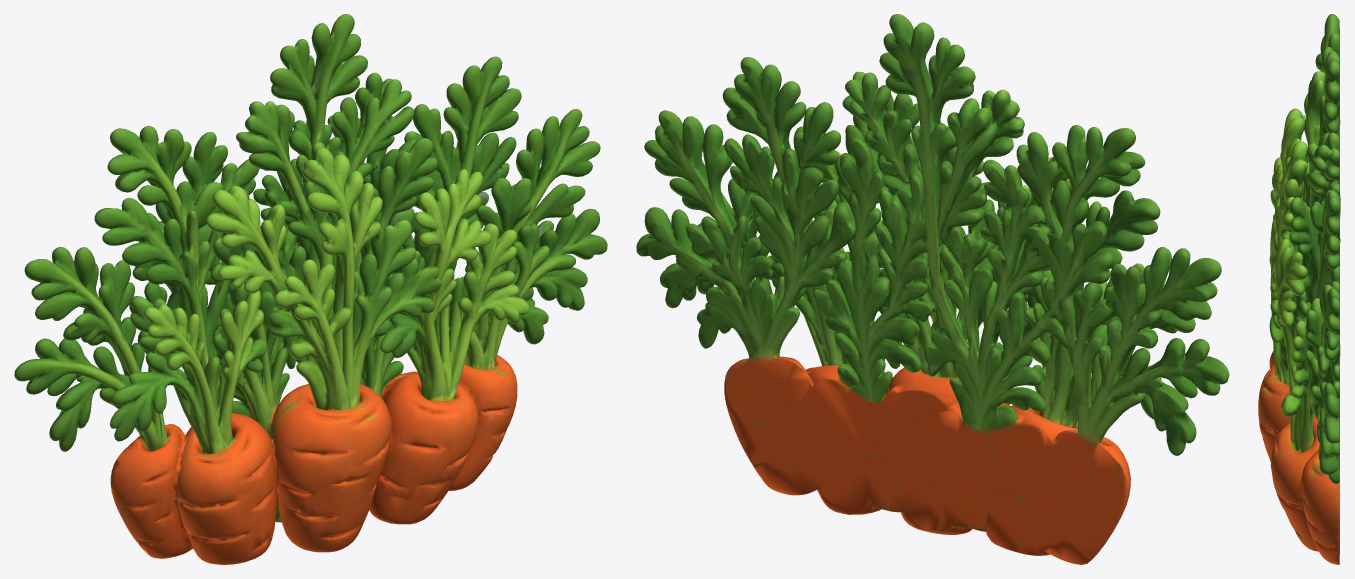
Rendered from carrot-mature.glb.
3 views of the same model, side by side, from view 1: azimuth 30°, elevation 25°; view 2: azimuth 150°, elevation 25°; view 3: azimuth 270°, elevation 25° (orthographic). The views are drawn at different scales.
Size of the model in its own units: 1.9 by 1.59 by 0.2571.
1 material, 1 textured.
